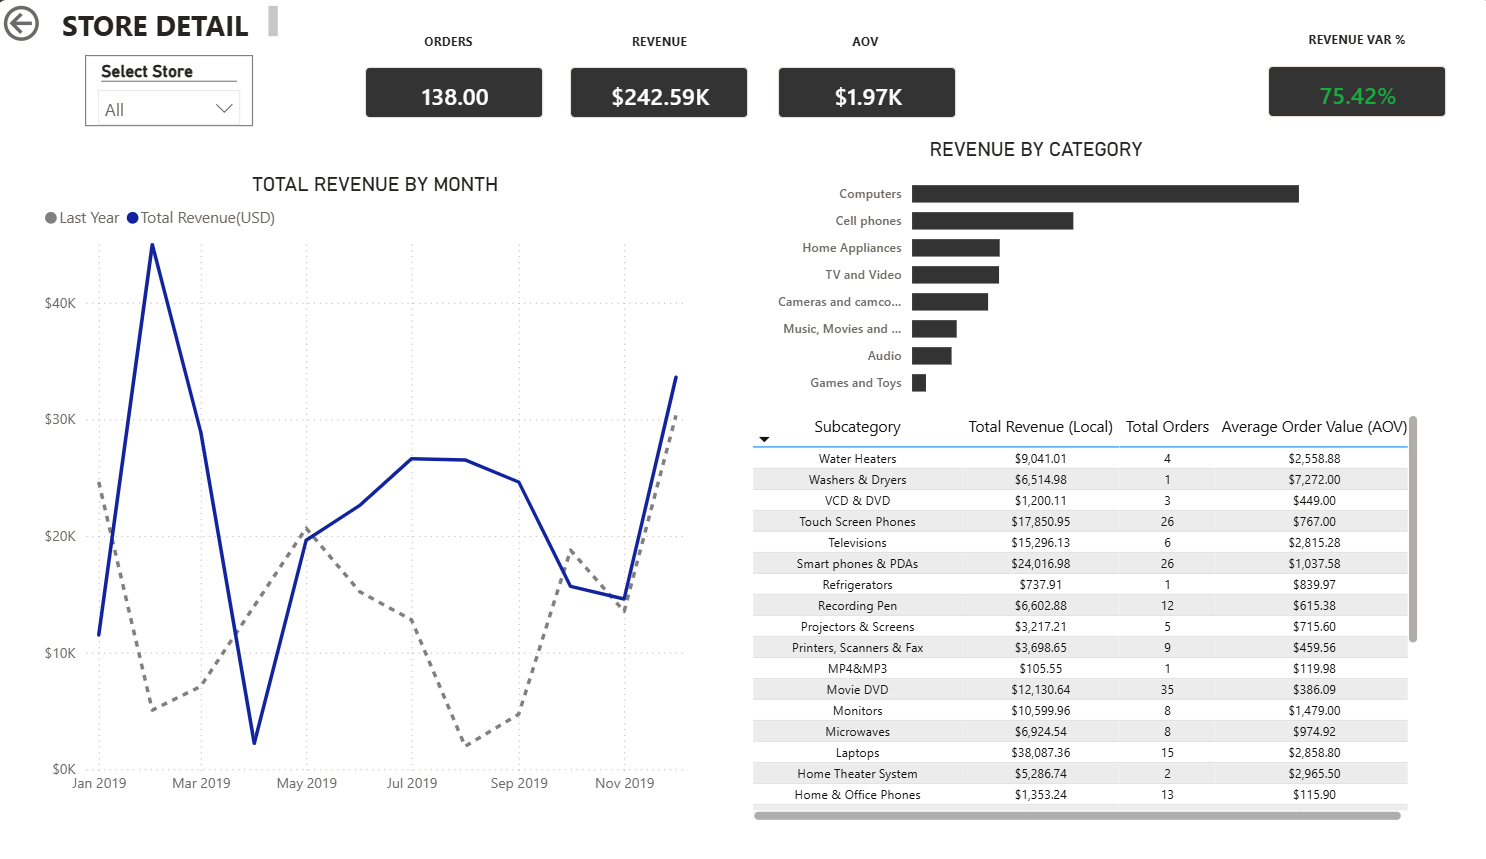

What the dashboard file says about the page in this screenshot:
{"tool":"powerbi","page":{"name":"Store Detail","canvas":[1280,720],"ordinal":2},"visuals":[{"type":"actionButton","box":[0,0,100,40],"z":0},{"type":"cardVisual","fields":{"Data":["_Measures.Total Revenue (Local)"]},"box":[473,40.4,187.8,78.4],"z":1000},{"type":"cardVisual","fields":{"Data":["_Measures.Total Orders"]},"box":[297.1,40.4,187.8,78.4],"z":2000},{"type":"cardVisual","fields":{"Data":["_Measures.Average Order Value (AOV)"]},"box":[651.3,40.4,187.8,78.4],"z":3000},{"type":"cardVisual","fields":{"Data":["_Measures.Revenue Var %"]},"box":[1070.8,39,187.8,78.4],"z":4000},{"type":"lineChart","title":"TOTAL REVENUE BY MONTH","fields":{"Category":["DimDate.Start of Month"],"Y":["_Measures.Revenue LY","_Measures.Total Revenue(USD)"]},"box":[34.5,147.4,577.6,541.9],"z":5000},{"type":"barChart","title":" REVENUE BY CATEGORY","fields":{"Category":["Categories.Category"],"Y":["_Measures.Total Revenue(USD)"]},"box":[651.3,117.7,476.6,232.9],"z":6000},{"type":"tableEx","fields":{"Values":["Subcategories.Subcategory","_Measures.Total Revenue (Local)","_Measures.Total Orders","_Measures.Average Order Value (AOV)"]},"box":[640.6,350.6,581.2,357.7],"z":7000},{"type":"textbox","box":[49.9,0,194.9,39.2],"z":8000},{"type":"slicer","fields":{"Values":["Stores.StoreKey"]},"box":[74.9,47.5,143.8,60.6],"z":9000},{"type":"textbox","box":[323.3,20.2,126,27.3],"z":10000},{"type":"textbox","box":[503.9,20.2,126,27.3],"z":11000},{"type":"textbox","box":[681,20.2,127.2,27.3],"z":12000},{"type":"textbox","box":[1100.5,18.5,127.2,27.3],"z":13000}]}

Visuals, with their boxes in screenshot pixels (x1, y1, x2, y2), scaled from the page's 1280x720 canvas onto the 1486x859 screenshot:
actionButton: select_region(0, 0, 116, 48)
cardVisual - _Measures.Total Revenue (Local): select_region(549, 48, 767, 142)
cardVisual - _Measures.Total Orders: select_region(345, 48, 563, 142)
cardVisual - _Measures.Average Order Value (AOV): select_region(756, 48, 974, 142)
cardVisual - _Measures.Revenue Var %: select_region(1243, 47, 1461, 140)
"TOTAL REVENUE BY MONTH" lineChart: select_region(40, 176, 711, 822)
" REVENUE BY CATEGORY" barChart: select_region(756, 140, 1309, 418)
tableEx - Subcategories.Subcategory x _Measures.Total Revenue (Local): select_region(744, 418, 1418, 845)
textbox: select_region(58, 0, 284, 47)
slicer - Stores.StoreKey: select_region(87, 57, 254, 129)
textbox: select_region(375, 24, 522, 57)
textbox: select_region(585, 24, 731, 57)
textbox: select_region(791, 24, 938, 57)
textbox: select_region(1278, 22, 1425, 55)
